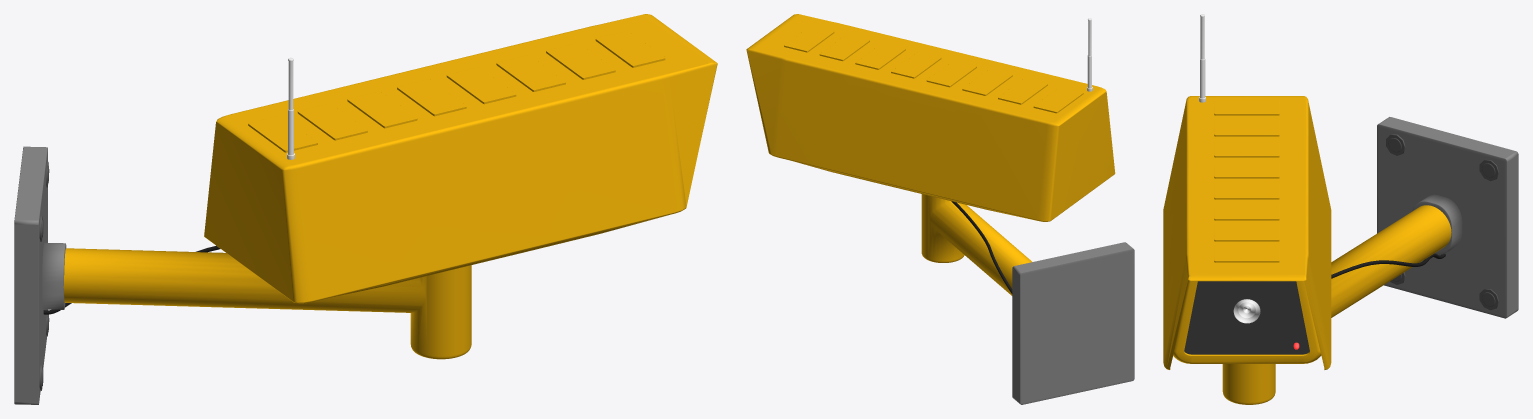
3 views of the same model, side by side, from view 1: azimuth 30°, elevation 25°; view 2: azimuth 150°, elevation 25°; view 3: azimuth 270°, elevation 25° (orthographic). The views are drawn at different scales.
Visible parts, largest first — view 1: Cubo, Cilindro.002, Cubo.003, Cilindro; view 2: Cubo, Cubo.003, Cilindro.002, Curva Bezier; view 3: Cubo, Cubo.003, Cilindro.002, Cube.002, Cube.003, Cube.000, Curva Bezier, Cilindro, Cilindro.010, Cilindro.009, Cilindro.012.
Part boxes in pixels (<box>): Cubo: <box>204,14,717,303</box>; Cilindro.002: <box>63,248,471,359</box>; Cubo.003: <box>14,146,66,404</box>; Cilindro: <box>287,57,294,159</box>; Cubo: <box>746,14,1115,221</box>; Cubo.003: <box>1012,242,1134,404</box>; Cilindro.002: <box>921,194,1031,295</box>; Curva Bezier: <box>951,201,1012,293</box>; Cubo: <box>1163,96,1331,369</box>; Cubo.003: <box>1377,117,1518,318</box>; Cilindro.002: <box>1222,205,1451,404</box>; Cube.002: <box>1184,281,1309,354</box>; Cube.003: <box>1173,281,1321,363</box>; Cube.000: <box>1233,299,1260,323</box>; Curva Bezier: <box>1331,253,1445,278</box>; Cilindro: <box>1199,14,1205,102</box>; Cilindro.010: <box>1386,134,1405,155</box>; Cilindro.009: <box>1479,159,1498,181</box>; Cilindro.012: <box>1479,288,1498,310</box>.
Size of the model in its own units: 9.59 by 5.97 by 5.77.
